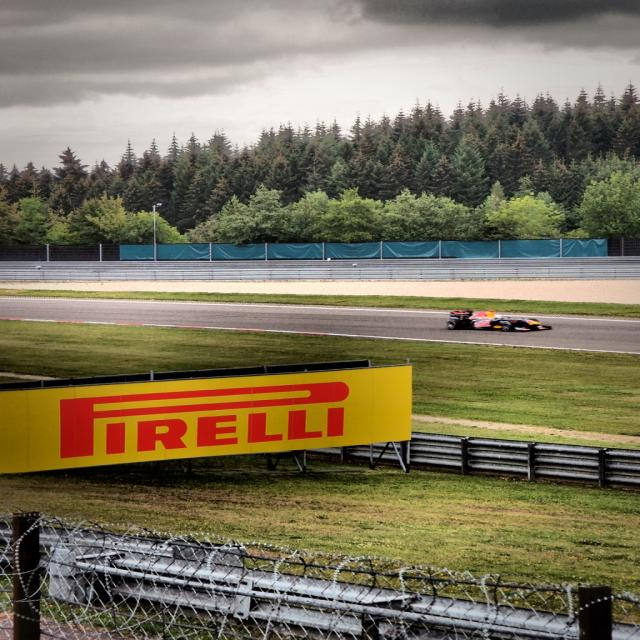car: (448, 306, 552, 338)
